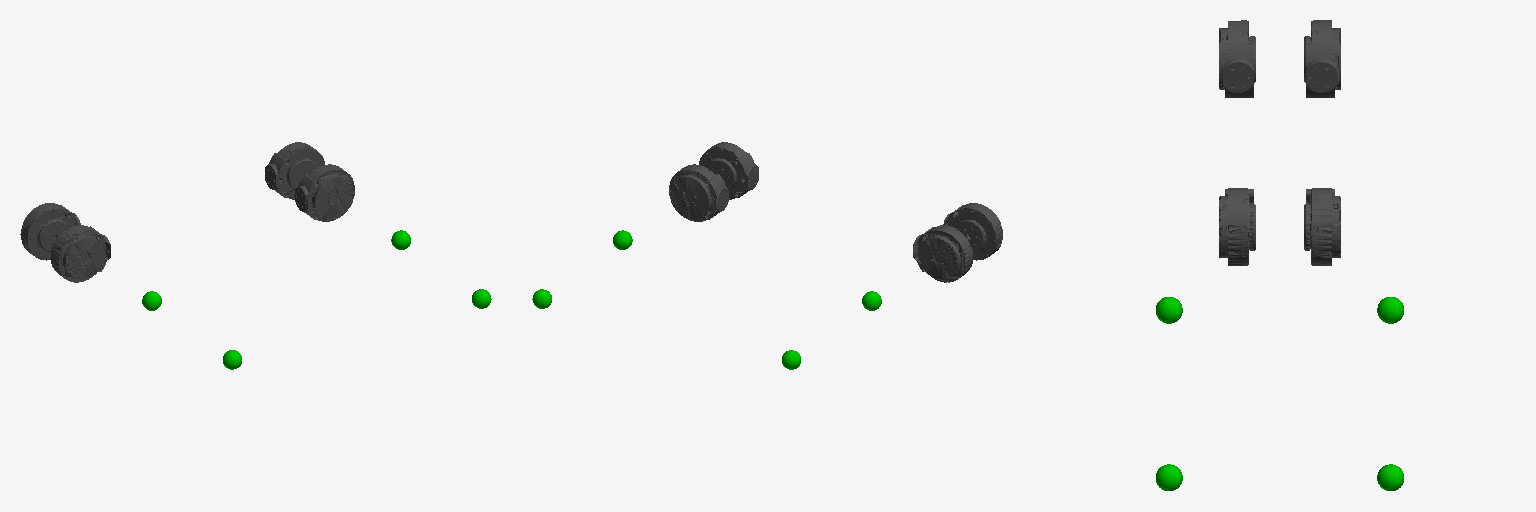
robot.urdf — aliengo:
<?xml version="1.0" encoding="utf-8"?>
<robot name="aliengo">
    <material name="black">
        <color rgba="0.0 0.0 0.0 1.0"/>
    </material>
    <material name="blue">
        <color rgba="0.0 0.0 0.8 1.0"/>
    </material>
    <material name="green">
        <color rgba="0.0 0.8 0.0 1.0"/>
    </material>
    <material name="grey">
        <color rgba="0.25 0.25 0.25 1."/>
    </material>
    <material name="light_grey">
        <color rgba="0.35 0.35 0.35 1.0"/>
    </material>
    <material name="red">
        <color rgba="0.45 0.13 0.13 1.0"/>
    </material>
    <material name="silver">
        <color rgba="0.913725490196 0.913725490196 0.847058823529 1.0"/>
    </material>
    <material name="orange">
        <color rgba="1.0 0.423529411765 0.0392156862745 1.0"/>
    </material>
    <material name="brown">
        <color rgba="0.870588235294 0.811764705882 0.764705882353 1.0"/>
    </material>
    <material name="white_gray">
        <color rgba="0.823529411765 0.823529411765 0.823529411765 1.0"/>
    </material>
    <material name="gold">
        <color rgba="0.811764705882 0.678431372549 0.301960784314 1.0"/>
    </material>
    <material name="white_blue">
        <color rgba="0.462745098039 0.8 0.992156862745 1.0"/>
    </material>
    <material name="white_black">
        <color rgba="0.494117647059 0.494117647059 0.494117647059 1.0"/>
    </material>
    <material name="white">
        <color rgba="1.0 1.0 1.0 1.0"/>
    </material>

    <link name="base">
        <inertial>
            <origin rpy="0 0 0" xyz="0 0 0"/>
            <mass value="1.001"/>
            <inertia ixx="0" ixy="0" ixz="0" iyy="0" iyz="0" izz="0"/>
        </inertial>
        <!--        <visual>-->
        <!--            <origin rpy="0 0 0" xyz="0 0 0"/>-->
        <!--            <geometry>-->
        <!--                <box size="0.001 0.001 0.001"/>-->
        <!--            </geometry>-->
        <!--        </visual>-->
    </link>
    <joint name="trunk_fixed" type="fixed">
        <origin rpy="0 0 0" xyz="0 0 0"/>
        <parent link="base"/>
        <child link="trunk"/>
    </joint>
    <link name="trunk">
        <inertial>
            <origin rpy="0 0 0" xyz="0.008465 0.004045 -0.000763"/>
            <mass value="9.041"/>
            <inertia ixx="0.033260231" ixy="-0.000451628" ixz="0.000487603" iyy="0.16117211" iyz="4.8356e-05" izz="0.17460442"/>
        </inertial>
        <visual>
            <origin rpy="0 0 0" xyz="0 0 0"/>
            <geometry>
                <mesh filename="../meshes/trunk.stl" scale="1 1 1"/>
            </geometry>
            <material name="grey"/>
        </visual>
        <collision>
            <origin rpy="0 0 0" xyz="0 0 0"/>
            <geometry>
                <box size="0.647 0.15 0.112"/>
            </geometry>
        </collision>
    </link>
    <!--    <joint name="payload_fixed" type="fixed">-->
    <!--        <origin rpy="0 0 0" xyz="0 0 0"/>-->
    <!--        <parent link="base"/>-->
    <!--        <child link="payload"/>-->
    <!--    </joint>-->
    <!--    <link name="payload">-->
    <!--        <inertial>-->
    <!--            <origin xyz="0 0 0" rpy="0 0 0"/>-->
    <!--            <mass value="0.001"/>-->
    <!--            <inertia ixx="0" ixy="0" ixz="0" iyy="0" iyz="0" izz="0"/>-->
    <!--        </inertial>-->
    <!--        <visual>-->
    <!--            <origin xyz="0 0 0.06" rpy="0 0 0"/>-->
    <!--            <geometry>-->
    <!--                <cylinder length="0.001" radius="0.05"/>-->
    <!--            </geometry>-->
    <!--            <material name="red"/>-->
    <!--        </visual>-->
    <!--        <collision>-->
    <!--            <origin xyz="0 0 0.06" rpy="0 0 0"/>-->
    <!--            <geometry>-->
    <!--                <cylinder length="0.001" radius="0.05"/>-->
    <!--            </geometry>-->
    <!--        </collision>-->
    <!--    </link>-->
    <!--    <joint name="imu_fixed" type="fixed">-->
    <!--        <parent link="base"/>-->
    <!--        <child link="imu_link"/>-->
    <!--        <origin rpy="0 0 0" xyz="0 0 0"/>-->
    <!--    </joint>-->
    <!--    <link name="imu_link">-->
    <!--        <inertial>-->
    <!--            <mass value="0.001"/>-->
    <!--            <origin rpy="0 0 0" xyz="0 0 0"/>-->
    <!--            <inertia ixx="0.0001" ixy="0" ixz="0" iyy="0.000001" iyz="0" izz="0.0001"/>-->
    <!--        </inertial>-->
    <!--        <visual>-->
    <!--            <origin rpy="0 0 0" xyz="0 0 0"/>-->
    <!--            <geometry>-->
    <!--                <box size="0.001 0.001 0.001"/>-->
    <!--            </geometry>-->
    <!--            <material name="red"/>-->
    <!--        </visual>-->
    <!--        <collision>-->
    <!--            <origin rpy="0 0 0" xyz="0 0 0"/>-->
    <!--            <geometry>-->
    <!--                <box size=".001 .001 .001"/>-->
    <!--            </geometry>-->
    <!--        </collision>-->
    <!--    </link>-->

    <!-- RF leg -->
    <joint name="RF_hip_joint" type="revolute">
        <origin rpy="0 0 0" xyz="0.2399 -0.051 0"/>
        <parent link="trunk"/>
        <child link="RF_hip"/>
        <axis xyz="1 0 0"/>
        <dynamics damping="0" friction="0"/>
        <limit effort="44" velocity="20" lower="-1.22" upper="1.22"/>
    </joint>
    <link name="RF_hip">
        <inertial>
            <origin rpy="0 0 0" xyz="-0.022191 -0.015144 -1.5e-05"/>
            <mass value="1.993"/>
            <inertia ixx="0.002903894" ixy="7.185e-05" ixz="-1.262e-06" iyy="0.004907517" iyz="1.75e-06" izz="0.005586944"/>
        </inertial>
        <visual>
            <origin rpy="3.14159265359 0 0" xyz="0 0 0"/>
            <geometry>
                <mesh filename="../meshes/hip.stl" scale="1 1 1"/>
            </geometry>
            <material name="light_grey"/>
        </visual>
        <collision>
            <origin rpy="1.57079632679 0 0" xyz="0 -0.083 0"/>
            <geometry>
                <cylinder length="0.0418" radius="0.046"/>
            </geometry>
        </collision>
    </link>
    <joint name="RF_thigh_joint" type="revolute">
        <origin rpy="0 0 0" xyz="0 -0.083 0"/>
        <parent link="RF_hip"/>
        <child link="RF_thigh"/>
        <axis xyz="0 1 0"/>
        <dynamics damping="0" friction="0"/>
        <limit effort="44" velocity="20" lower="-3.14" upper="3.14"/>
    </joint>
    <link name="RF_thigh">
        <inertial>
            <origin rpy="0 0 0" xyz="-0.005607 0.003877 -0.048199"/>
            <mass value="0.639"/>
            <inertia ixx="0.005666803" ixy="-3.597e-06" ixz="0.000491446" iyy="0.005847229" iyz="-1.0086e-05" izz="0.000369811"/>
        </inertial>
        <visual>
            <origin rpy="0 0 0" xyz="0 0 0"/>
            <geometry>
                <mesh filename="../meshes/thigh_mirror.stl" scale="1 1 1"/>
            </geometry>
            <material name="light_grey"/>
        </visual>
        <collision>
            <origin rpy="0 1.57079632679 0" xyz="0 0 -0.125"/>
            <geometry>
                <box size="0.25 0.0374 0.043"/>
            </geometry>
        </collision>
    </link>
    <joint name="RF_calf_joint" type="revolute">
        <origin rpy="0 0 0" xyz="0 0 -0.25"/>
        <parent link="RF_thigh"/>
        <child link="RF_calf"/>
        <axis xyz="0 1 0"/>
        <dynamics damping="0" friction="0"/>
        <limit effort="55" velocity="16" lower="-2.75" upper="-0.64"/>
    </joint>
    <link name="RF_calf">
        <inertial>
            <origin rpy="0 0 0" xyz="0.002781 6.3e-05 -0.142518"/>
            <mass value="0.207"/>
            <inertia ixx="0.006341369" ixy="-3e-09" ixz="-8.7951e-05" iyy="0.006355157" iyz="-1.336e-06" izz="3.9188e-05"/>
        </inertial>
        <visual>
            <origin rpy="0 0 0" xyz="0 0 0"/>
            <geometry>
                <mesh filename="../meshes/calf.stl" scale="1 1 1"/>
            </geometry>
            <material name="light_grey"/>
        </visual>
        <collision>
            <origin rpy="0 1.57079632679 0" xyz="0 0 -0.125"/>
            <geometry>
                <box size="0.25 0.0208 0.016"/>
            </geometry>
        </collision>
    </link>
    <joint name="RF_foot_fixed" type="fixed">
        <origin rpy="0 0 0" xyz="0 0 -0.25"/>
        <parent link="RF_calf"/>
        <child link="RF_foot"/>
    </joint>
    <link name="RF_foot">
        <inertial>
            <mass value="0.06"/>
            <inertia ixx="1.6854e-05" ixy="0" ixz="0" iyy="1.6854e-05" iyz="0" izz="1.6854e-05"/>
        </inertial>
        <visual>
            <origin rpy="0 0 0" xyz="0 0 0"/>
            <geometry>
                <sphere radius="0.0165"/>
            </geometry>
            <material name="green"/>
        </visual>
        <collision>
            <origin rpy="0 0 0" xyz="0 0 0"/>
            <geometry>
                <sphere radius="0.0265"/>
            </geometry>
        </collision>
    </link>

    <!-- LF leg -->
    <joint name="LF_hip_joint" type="revolute">
        <origin rpy="0 0 0" xyz="0.2399 0.051 0"/>
        <parent link="trunk"/>
        <child link="LF_hip"/>
        <axis xyz="1 0 0"/>
        <dynamics damping="0" friction="0"/>
        <limit effort="44" velocity="20" lower="-1.22" upper="1.22"/>
    </joint>
    <link name="LF_hip">
        <inertial>
            <origin rpy="0 0 0" xyz="-0.022191 0.015144 -1.5e-05"/>
            <mass value="1.993"/>
            <inertia ixx="0.002903894" ixy="-7.185e-05" ixz="-1.262e-06" iyy="0.004907517" iyz="-1.75e-06" izz="0.005586944"/>
        </inertial>
        <visual>
            <origin rpy="0 0 0" xyz="0 0 0"/>
            <geometry>
                <mesh filename="../meshes/hip.stl" scale="1 1 1"/>
            </geometry>
            <material name="light_grey"/>
        </visual>
        <collision>
            <origin rpy="1.57079632679 0 0" xyz="0 0.083 0"/>
            <geometry>
                <cylinder length="0.0418" radius="0.046"/>
            </geometry>
        </collision>
    </link>
    <joint name="LF_thigh_joint" type="revolute">
        <origin rpy="0 0 0" xyz="0 0.083 0"/>
        <parent link="LF_hip"/>
        <child link="LF_thigh"/>
        <axis xyz="0 1 0"/>
        <dynamics damping="0" friction="0"/>
        <limit effort="44" velocity="20" lower="-3.14" upper="3.14"/>
    </joint>
    <link name="LF_thigh">
        <inertial>
            <origin rpy="0 0 0" xyz="-0.005607 -0.003877 -0.048199"/>
            <mass value="0.639"/>
            <inertia ixx="0.005666803" ixy="3.597e-06" ixz="0.000491446" iyy="0.005847229" iyz="1.0086e-05" izz="0.000369811"/>
        </inertial>
        <visual>
            <origin rpy="0 0 0" xyz="0 0 0"/>
            <geometry>
                <mesh filename="../meshes/thigh.stl" scale="1 1 1"/>
            </geometry>
            <material name="light_grey"/>
        </visual>
        <collision>
            <origin rpy="0 1.57079632679 0" xyz="0 0 -0.125"/>
            <geometry>
                <box size="0.25 0.0374 0.043"/>
            </geometry>
        </collision>
    </link>
    <joint name="LF_calf_joint" type="revolute">
        <origin rpy="0 0 0" xyz="0 0 -0.25"/>
        <parent link="LF_thigh"/>
        <child link="LF_calf"/>
        <axis xyz="0 1 0"/>
        <dynamics damping="0" friction="0"/>
        <limit effort="55" velocity="16" lower="-2.75" upper="-0.64"/>
    </joint>
    <link name="LF_calf">
        <inertial>
            <origin rpy="0 0 0" xyz="0.002781 6.3e-05 -0.142518"/>
            <mass value="0.207"/>
            <inertia ixx="0.006341369" ixy="-3e-09" ixz="-8.7951e-05" iyy="0.006355157" iyz="-1.336e-06" izz="3.9188e-05"/>
        </inertial>
        <visual>
            <origin rpy="0 0 0" xyz="0 0 0"/>
            <geometry>
                <mesh filename="../meshes/calf.stl" scale="1 1 1"/>
            </geometry>
            <material name="light_grey"/>
        </visual>
        <collision>
            <origin rpy="0 1.57079632679 0" xyz="0 0 -0.125"/>
            <geometry>
                <box size="0.25 0.0208 0.016"/>
            </geometry>
        </collision>
    </link>
    <joint name="LF_foot_fixed" type="fixed">
        <origin rpy="0 0 0" xyz="0 0 -0.25"/>
        <parent link="LF_calf"/>
        <child link="LF_foot"/>
    </joint>
    <link name="LF_foot">
        <inertial>
            <mass value="0.06"/>
            <inertia ixx="1.6854e-05" ixy="0" ixz="0" iyy="1.6854e-05" iyz="0" izz="1.6854e-05"/>
        </inertial>
        <visual>
            <origin rpy="0 0 0" xyz="0 0 0"/>
            <geometry>
                <sphere radius="0.0165"/>
            </geometry>
            <material name="green"/>
        </visual>
        <collision>
            <origin rpy="0 0 0" xyz="0 0 0"/>
            <geometry>
                <sphere radius="0.0265"/>
            </geometry>
        </collision>
    </link>

    <!-- RR leg -->
    <joint name="RR_hip_joint" type="revolute">
        <origin rpy="0 0 0" xyz="-0.2399 -0.051 0"/>
        <parent link="trunk"/>
        <child link="RR_hip"/>
        <axis xyz="1 0 0"/>
        <dynamics damping="0" friction="0"/>
        <limit effort="44" velocity="20" lower="-1.22" upper="1.22"/>
    </joint>
    <link name="RR_hip">
        <inertial>
            <origin rpy="0 0 0" xyz="0.022191 -0.015144 -1.5e-05"/>
            <mass value="1.993"/>
            <inertia ixx="0.002903894" ixy="-7.185e-05" ixz="1.262e-06" iyy="0.004907517" iyz="1.75e-06" izz="0.005586944"/>
        </inertial>
        <visual>
            <origin rpy="3.14159265359 3.14159265359 0" xyz="0 0 0"/>
            <geometry>
                <mesh filename="../meshes/hip.stl" scale="1 1 1"/>
            </geometry>
            <material name="light_grey"/>
        </visual>
        <collision>
            <origin rpy="1.57079632679 0 0" xyz="0 -0.083 0"/>
            <geometry>
                <cylinder length="0.0418" radius="0.046"/>
            </geometry>
        </collision>
    </link>
    <joint name="RR_thigh_joint" type="revolute">
        <origin rpy="0 0 0" xyz="0 -0.083 0"/>
        <parent link="RR_hip"/>
        <child link="RR_thigh"/>
        <axis xyz="0 1 0"/>
        <dynamics damping="0" friction="0"/>
        <limit effort="44" velocity="20" lower="-3.14" upper="3.14"/>
    </joint>
    <link name="RR_thigh">
        <inertial>
            <origin rpy="0 0 0" xyz="-0.005607 0.003877 -0.048199"/>
            <mass value="0.639"/>
            <inertia ixx="0.005666803" ixy="-3.597e-06" ixz="0.000491446" iyy="0.005847229" iyz="-1.0086e-05" izz="0.000369811"/>
        </inertial>
        <visual>
            <origin rpy="0 0 0" xyz="0 0 0"/>
            <geometry>
                <mesh filename="../meshes/thigh_mirror.stl" scale="1 1 1"/>
            </geometry>
            <material name="light_grey"/>
        </visual>
        <collision>
            <origin rpy="0 1.57079632679 0" xyz="0 0 -0.125"/>
            <geometry>
                <box size="0.25 0.0374 0.043"/>
            </geometry>
        </collision>
    </link>
    <joint name="RR_calf_joint" type="revolute">
        <origin rpy="0 0 0" xyz="0 0 -0.25"/>
        <parent link="RR_thigh"/>
        <child link="RR_calf"/>
        <axis xyz="0 1 0"/>
        <dynamics damping="0" friction="0"/>
        <limit effort="55" velocity="16" lower="-2.75" upper="-0.64"/>
    </joint>
    <link name="RR_calf">
        <inertial>
            <origin rpy="0 0 0" xyz="0.002781 6.3e-05 -0.142518"/>
            <mass value="0.207"/>
            <inertia ixx="0.006341369" ixy="-3e-09" ixz="-8.7951e-05" iyy="0.006355157" iyz="-1.336e-06" izz="3.9188e-05"/>
        </inertial>
        <visual>
            <origin rpy="0 0 0" xyz="0 0 0"/>
            <geometry>
                <mesh filename="../meshes/calf.stl" scale="1 1 1"/>
            </geometry>
            <material name="light_grey"/>
        </visual>
        <collision>
            <origin rpy="0 1.57079632679 0" xyz="0 0 -0.125"/>
            <geometry>
                <box size="0.25 0.0208 0.016"/>
            </geometry>
        </collision>
    </link>
    <joint name="RR_foot_fixed" type="fixed">
        <origin rpy="0 0 0" xyz="0 0 -0.25"/>
        <parent link="RR_calf"/>
        <child link="RR_foot"/>
    </joint>
    <link name="RR_foot">
        <inertial>
            <mass value="0.06"/>
            <inertia ixx="1.6854e-05" ixy="0" ixz="0" iyy="1.6854e-05" iyz="0" izz="1.6854e-05"/>
        </inertial>
        <visual>
            <origin rpy="0 0 0" xyz="0 0 0"/>
            <geometry>
                <sphere radius="0.0165"/>
            </geometry>
            <material name="green"/>
        </visual>
        <collision>
            <origin rpy="0 0 0" xyz="0 0 0"/>
            <geometry>
                <sphere radius="0.0265"/>
            </geometry>
        </collision>
    </link>

    <!-- LR leg -->
    <joint name="LR_hip_joint" type="revolute">
        <origin rpy="0 0 0" xyz="-0.2399 0.051 0"/>
        <parent link="trunk"/>
        <child link="LR_hip"/>
        <axis xyz="1 0 0"/>
        <dynamics damping="0" friction="0"/>
        <limit effort="44" velocity="20" lower="-1.22" upper="1.22"/>
    </joint>
    <link name="LR_hip">
        <inertial>
            <origin rpy="0 0 0" xyz="0.022191 0.015144 -1.5e-05"/>
            <mass value="1.993"/>
            <inertia ixx="0.002903894" ixy="7.185e-05" ixz="1.262e-06" iyy="0.004907517" iyz="-1.75e-06" izz="0.005586944"/>
        </inertial>
        <visual>
            <origin rpy="0 3.14159265359 0" xyz="0 0 0"/>
            <geometry>
                <mesh filename="../meshes/hip.stl" scale="1 1 1"/>
            </geometry>
            <material name="light_grey"/>
        </visual>
        <collision>
            <origin rpy="1.57079632679 0 0" xyz="0 0.083 0"/>
            <geometry>
                <cylinder length="0.0418" radius="0.046"/>
            </geometry>
        </collision>
    </link>
    <joint name="LR_thigh_joint" type="revolute">
        <origin rpy="0 0 0" xyz="0 0.083 0"/>
        <parent link="LR_hip"/>
        <child link="LR_thigh"/>
        <axis xyz="0 1 0"/>
        <dynamics damping="0" friction="0"/>
        <limit effort="44" velocity="20" lower="-3.14" upper="3.14"/>
    </joint>
    <link name="LR_thigh">
        <inertial>
            <origin rpy="0 0 0" xyz="-0.005607 -0.003877 -0.048199"/>
            <mass value="0.639"/>
            <inertia ixx="0.005666803" ixy="3.597e-06" ixz="0.000491446" iyy="0.005847229" iyz="1.0086e-05" izz="0.000369811"/>
        </inertial>
        <visual>
            <origin rpy="0 0 0" xyz="0 0 0"/>
            <geometry>
                <mesh filename="../meshes/thigh.stl" scale="1 1 1"/>
            </geometry>
            <material name="light_grey"/>
        </visual>
        <collision>
            <origin rpy="0 1.57079632679 0" xyz="0 0 -0.125"/>
            <geometry>
                <box size="0.25 0.0374 0.043"/>
            </geometry>
        </collision>
    </link>
    <joint name="LR_calf_joint" type="revolute">
        <origin rpy="0 0 0" xyz="0 0 -0.25"/>
        <parent link="LR_thigh"/>
        <child link="LR_calf"/>
        <axis xyz="0 1 0"/>
        <dynamics damping="0" friction="0"/>
        <limit effort="55" velocity="16" lower="-2.75" upper="-0.64"/>
    </joint>
    <link name="LR_calf">
        <inertial>
            <origin rpy="0 0 0" xyz="0.002781 6.3e-05 -0.142518"/>
            <mass value="0.207"/>
            <inertia ixx="0.006341369" ixy="-3e-09" ixz="-8.7951e-05" iyy="0.006355157" iyz="-1.336e-06" izz="3.9188e-05"/>
        </inertial>
        <visual>
            <origin rpy="0 0 0" xyz="0 0 0"/>
            <geometry>
                <mesh filename="../meshes/calf.stl" scale="1 1 1"/>
            </geometry>
            <material name="light_grey"/>
        </visual>
        <collision>
            <origin rpy="0 1.57079632679 0" xyz="0 0 -0.125"/>
            <geometry>
                <box size="0.25 0.0208 0.016"/>
            </geometry>
        </collision>
    </link>
    <joint name="LR_foot_fixed" type="fixed">
        <origin rpy="0 0 0" xyz="0 0 -0.25"/>
        <parent link="LR_calf"/>
        <child link="LR_foot"/>
    </joint>
    <link name="LR_foot">
        <inertial>
            <mass value="0.06"/>
            <inertia ixx="1.6854e-05" ixy="0" ixz="0" iyy="1.6854e-05" iyz="0" izz="1.6854e-05"/>
        </inertial>
        <visual>
            <origin rpy="0 0 0" xyz="0 0 0"/>
            <geometry>
                <sphere radius="0.0165"/>
            </geometry>
            <material name="green"/>
        </visual>
        <collision>
            <origin rpy="0 0 0" xyz="0 0 0"/>
            <geometry>
                <sphere radius="0.0265"/>
            </geometry>
        </collision>
    </link>
</robot>

--- Facts derived from the render (not from the file) ---
3 views of the same robot in one strip: view 1: azimuth 30°, elevation 25°; view 2: azimuth 150°, elevation 25°; view 3: azimuth 270°, elevation 25° (orthographic).
Robot: aliengo — 18 links, 17 joints (12 revolute, 5 fixed); root link base; default pose: joints at zero except 4 at the middle of their limits (RF_calf_joint = -1.7, LF_calf_joint = -1.7, RR_calf_joint = -1.7, LR_calf_joint = -1.7).
Links seen in each view (by area): view 1: RF_hip, RR_hip, LR_hip, LF_hip; view 2: LF_hip, LR_hip, RF_hip, RR_hip; view 3: LR_hip, RF_hip, LF_hip, RR_hip, RR_foot, LR_foot, RF_foot, LF_foot.
Link boxes in pixels (x1,y1,x2,y2): RF_hip: (295,164,354,221); RR_hip: (51,225,110,282); LR_hip: (20,203,80,260); LF_hip: (265,142,324,199); LF_hip: (669,164,728,221); LR_hip: (913,225,972,282); RF_hip: (699,142,758,199); RR_hip: (943,203,1002,260); LR_hip: (1304,20,1340,97); RF_hip: (1219,188,1255,265); LF_hip: (1304,188,1340,265); RR_hip: (1219,20,1255,97); RR_foot: (1156,297,1182,323); LR_foot: (1377,297,1403,323); RF_foot: (1156,464,1182,490); LF_foot: (1377,464,1403,490).
Size in the robot's own frame: 0.7911 by 0.301 by 0.2824 metres.
Meshes: 5 distinct files referenced, 4 mesh visuals loaded (1 binary STL); not drawn: 9 (reference not matched to a file when rendering).